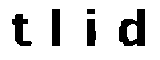d: (114, 5, 148, 50)
i: (81, 6, 102, 52)
l: (49, 6, 67, 52)
t: (6, 11, 35, 51)
